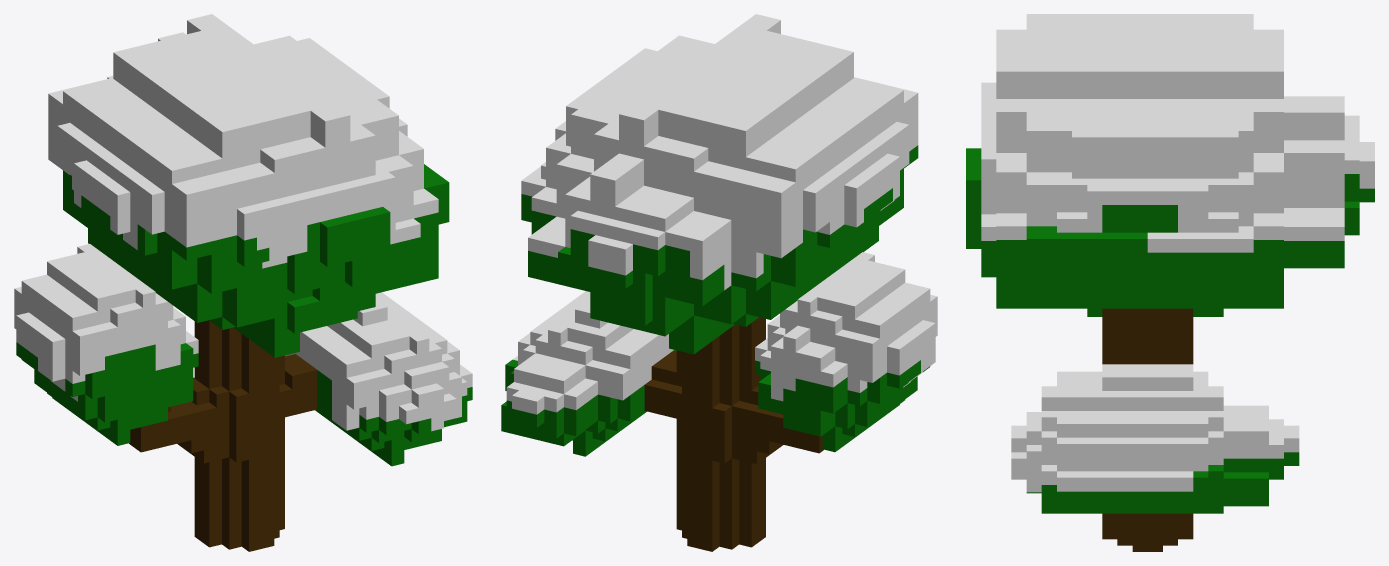
File: ObstaculoHielo.obj
The picture shows the model from 3 angles, left to right: view 1: azimuth 30°, elevation 25°; view 2: azimuth 150°, elevation 25°; view 3: azimuth 270°, elevation 25°; orthographic projection. The views are drawn at different scales.
Size of the model in its own units: 3.1 by 3.5 by 2.7.
1 material, 1 textured.
